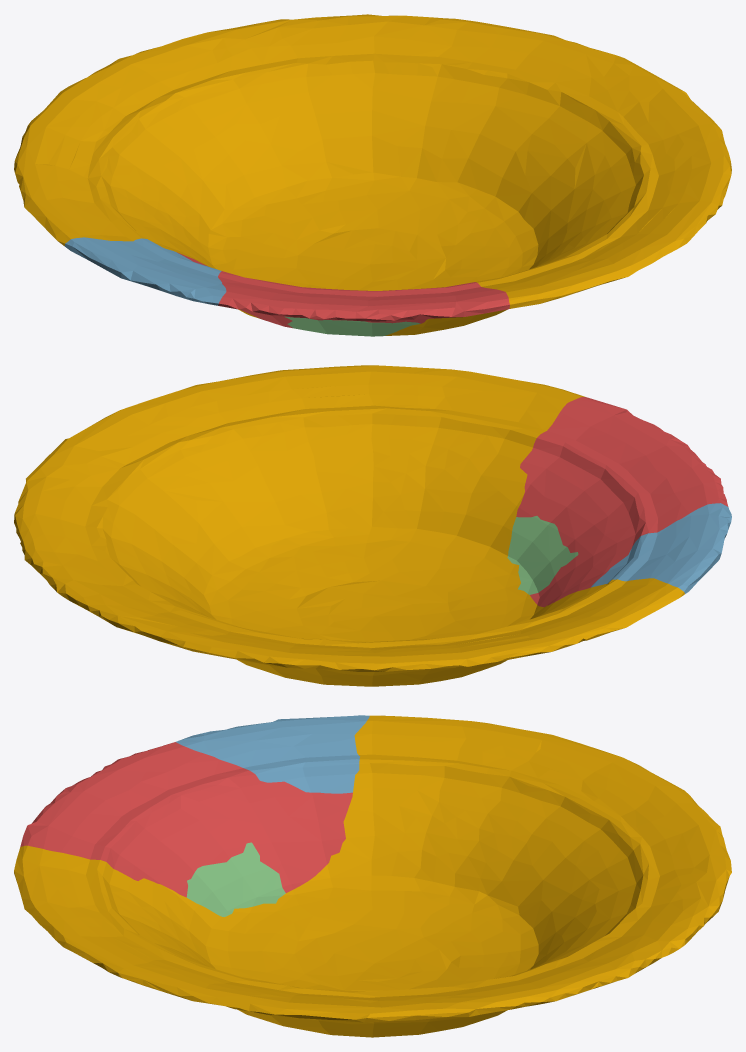
File: fractured_63_4pcs.glb
3 renders of one model, top to bottom at view 1: azimuth 30°, elevation 25°; view 2: azimuth 150°, elevation 25°; view 3: azimuth 270°, elevation 25°, orthographic.
Visible parts, largest first — view 1: piece_0.obj, piece_1.obj, piece_2.obj, piece_3.obj; view 2: piece_0.obj, piece_1.obj, piece_2.obj, piece_3.obj; view 3: piece_0.obj, piece_1.obj, piece_2.obj, piece_3.obj.
Boxes of the visible parts, left/top/right/bottom form: piece_0.obj: left=14, top=14, right=731, bottom=335; piece_1.obj: left=177, top=252, right=509, bottom=328; piece_2.obj: left=64, top=237, right=226, bottom=305; piece_3.obj: left=284, top=316, right=420, bottom=336; piece_0.obj: left=14, top=365, right=684, bottom=686; piece_1.obj: left=516, top=397, right=728, bottom=607; piece_2.obj: left=591, top=503, right=731, bottom=593; piece_3.obj: left=507, top=516, right=578, bottom=594; piece_0.obj: left=14, top=715, right=731, bottom=1037; piece_1.obj: left=20, top=742, right=352, bottom=897; piece_2.obj: left=176, top=715, right=369, bottom=793; piece_3.obj: left=186, top=842, right=285, bottom=916.
Size of the model in its own units: 1 by 0.1832 by 0.9983.
